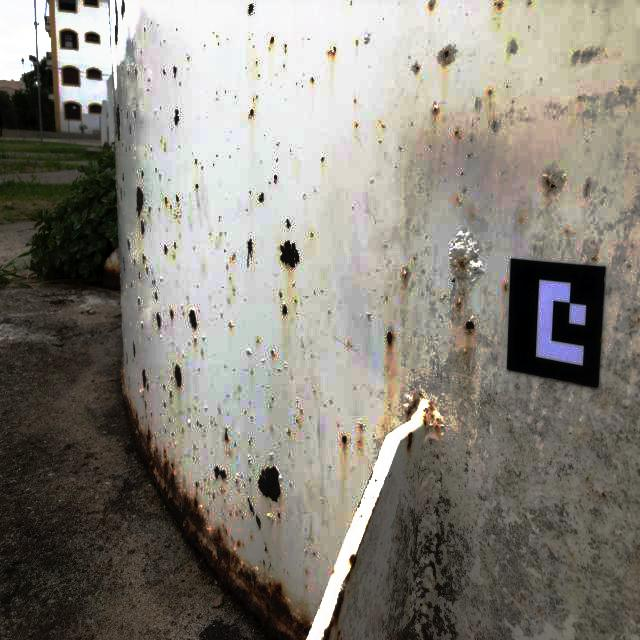Corrosion: (121, 355, 314, 640), (345, 495, 380, 584), (450, 232, 483, 282), (322, 589, 345, 640), (258, 465, 281, 503), (103, 247, 120, 290), (357, 468, 373, 508), (280, 240, 300, 270), (405, 392, 424, 420), (422, 401, 434, 432), (136, 186, 144, 217), (464, 317, 476, 335), (213, 465, 227, 480), (174, 364, 182, 388), (188, 310, 197, 330), (247, 497, 256, 517), (545, 176, 557, 191), (406, 431, 414, 453), (247, 239, 253, 267), (116, 104, 120, 141), (142, 391, 147, 419), (115, 0, 118, 45), (386, 330, 393, 347), (142, 369, 148, 388), (443, 48, 450, 63), (174, 109, 180, 126), (248, 2, 255, 16), (255, 514, 261, 530), (156, 312, 161, 330), (495, 0, 505, 8), (402, 267, 408, 280), (282, 304, 288, 316), (341, 435, 347, 447), (258, 192, 264, 204), (121, 0, 125, 18), (224, 428, 229, 442), (286, 218, 291, 230), (141, 220, 145, 235), (330, 46, 336, 55), (460, 288, 466, 297), (173, 65, 177, 78), (133, 341, 136, 358), (456, 300, 462, 308), (429, 0, 435, 8), (273, 175, 278, 184), (170, 309, 174, 320), (164, 244, 168, 255), (248, 109, 254, 116), (123, 257, 126, 271), (118, 186, 121, 200), (592, 255, 598, 262), (270, 36, 275, 44), (359, 424, 364, 432), (127, 238, 130, 250), (284, 43, 288, 52), (277, 510, 281, 518), (164, 196, 168, 204), (143, 254, 146, 264), (197, 421, 202, 427), (450, 278, 456, 283), (435, 425, 439, 432), (504, 284, 508, 291), (155, 292, 158, 301), (264, 545, 267, 553), (237, 541, 241, 547), (176, 195, 179, 203), (601, 491, 605, 497), (196, 481, 199, 488), (174, 242, 177, 249), (121, 173, 124, 180), (126, 353, 128, 363), (271, 351, 275, 356), (455, 130, 458, 136), (163, 69, 166, 75), (195, 184, 199, 188), (147, 383, 149, 391), (311, 77, 314, 82), (434, 107, 437, 112), (587, 183, 590, 188), (152, 279, 155, 284), (490, 89, 493, 94), (146, 268, 148, 275), (149, 206, 151, 213), (321, 157, 324, 161), (416, 66, 419, 70), (311, 232, 314, 236), (141, 323, 143, 328), (164, 402, 166, 407), (131, 282, 132, 287)
